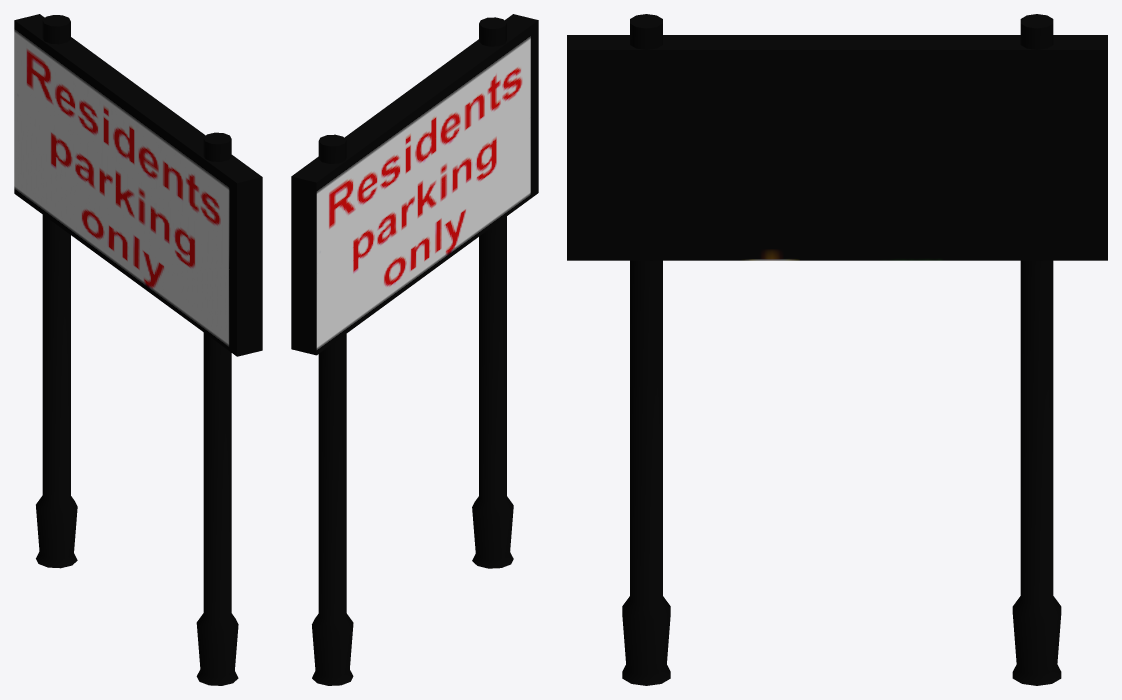
3 views of the same model, side by side, from view 1: azimuth 30°, elevation 25°; view 2: azimuth 150°, elevation 25°; view 3: azimuth 270°, elevation 25° (orthographic). The views are drawn at different scales.
Parts seen in each view (by area): view 1: Cylinder002; view 2: Cylinder002; view 3: Cylinder002.
Part boxes in pixels (x1,y1,x2,y2): Cylinder002: (14,14,262,685); Cylinder002: (291,14,538,685); Cylinder002: (567,14,1107,685).
Bounding box in the file's own units: 1.42 × 20.01 × 15.
